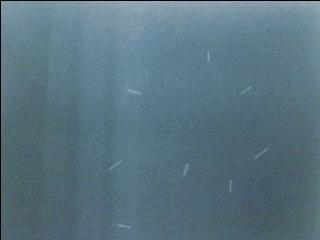scratch: (103, 155, 127, 176), (177, 159, 195, 183), (122, 83, 145, 101), (250, 144, 272, 162), (111, 218, 135, 234), (201, 45, 217, 68), (236, 82, 254, 99), (224, 175, 238, 196)
